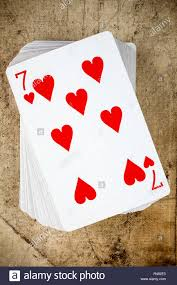seven of hearts: (5, 31, 171, 230)
